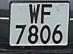0: (39, 24, 52, 47)
6: (52, 22, 64, 47)
7: (14, 23, 28, 46)
8: (27, 24, 40, 47)
F: (40, 2, 55, 27)
W: (28, 3, 41, 25)
